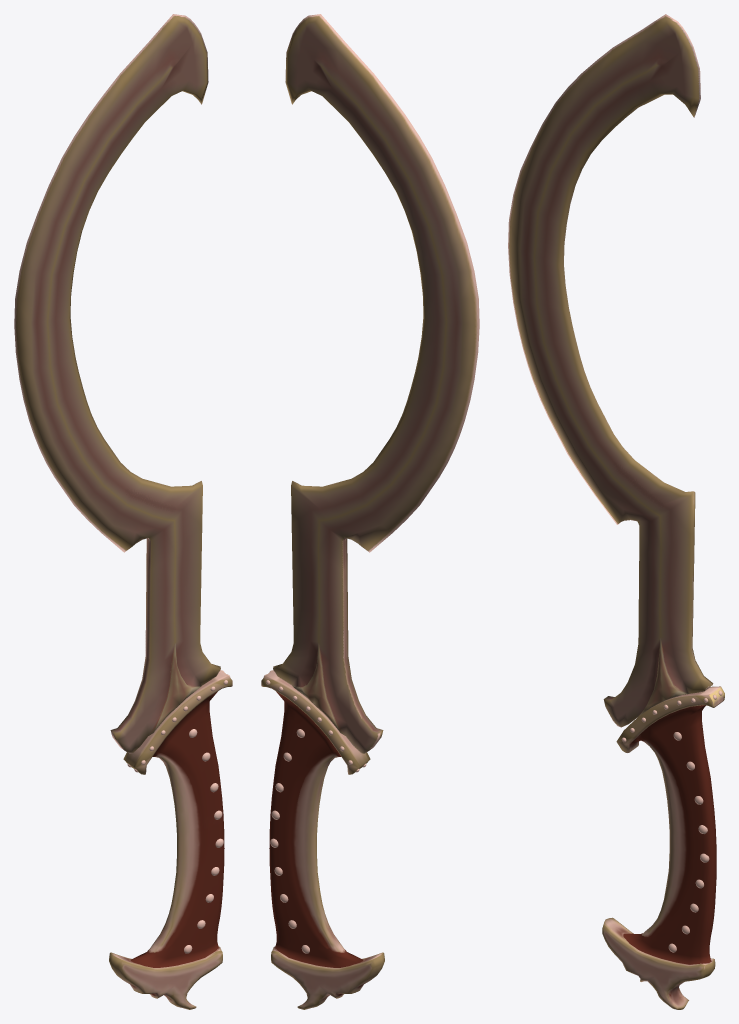
The model's file is khopesh_display.glb.
3 views of the same model, side by side, from view 1: azimuth 30°, elevation 25°; view 2: azimuth 150°, elevation 25°; view 3: azimuth 330°, elevation 25° (orthographic).
Visible parts, largest first — view 1: Low_Poly; view 2: Low_Poly; view 3: Low_Poly.
Part boxes in pixels (x1,y1,x2,y2): Low_Poly: (14,14,232,1009); Low_Poly: (261,14,479,1009); Low_Poly: (508,14,724,1009).
Size of the model in its own units: 1.06 by 4.74 by 0.1191.
Materials: 1 (1 with a texture image).
